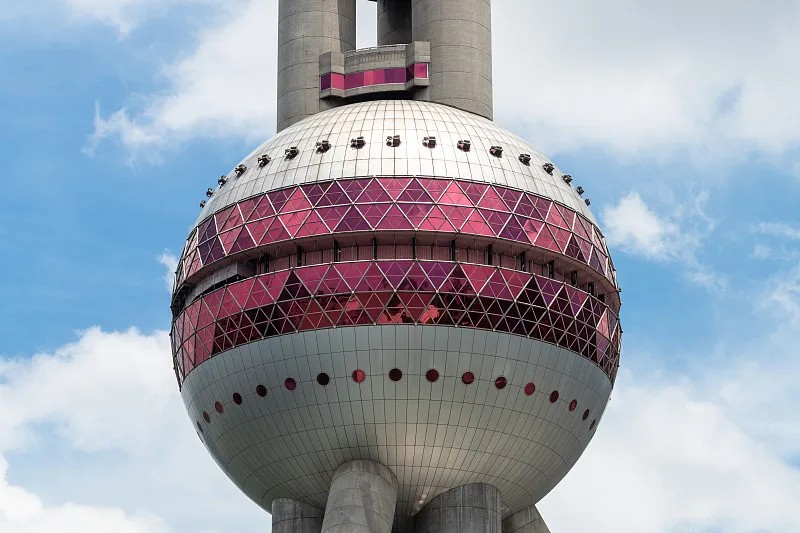Oriental: (171, 2, 623, 533)
